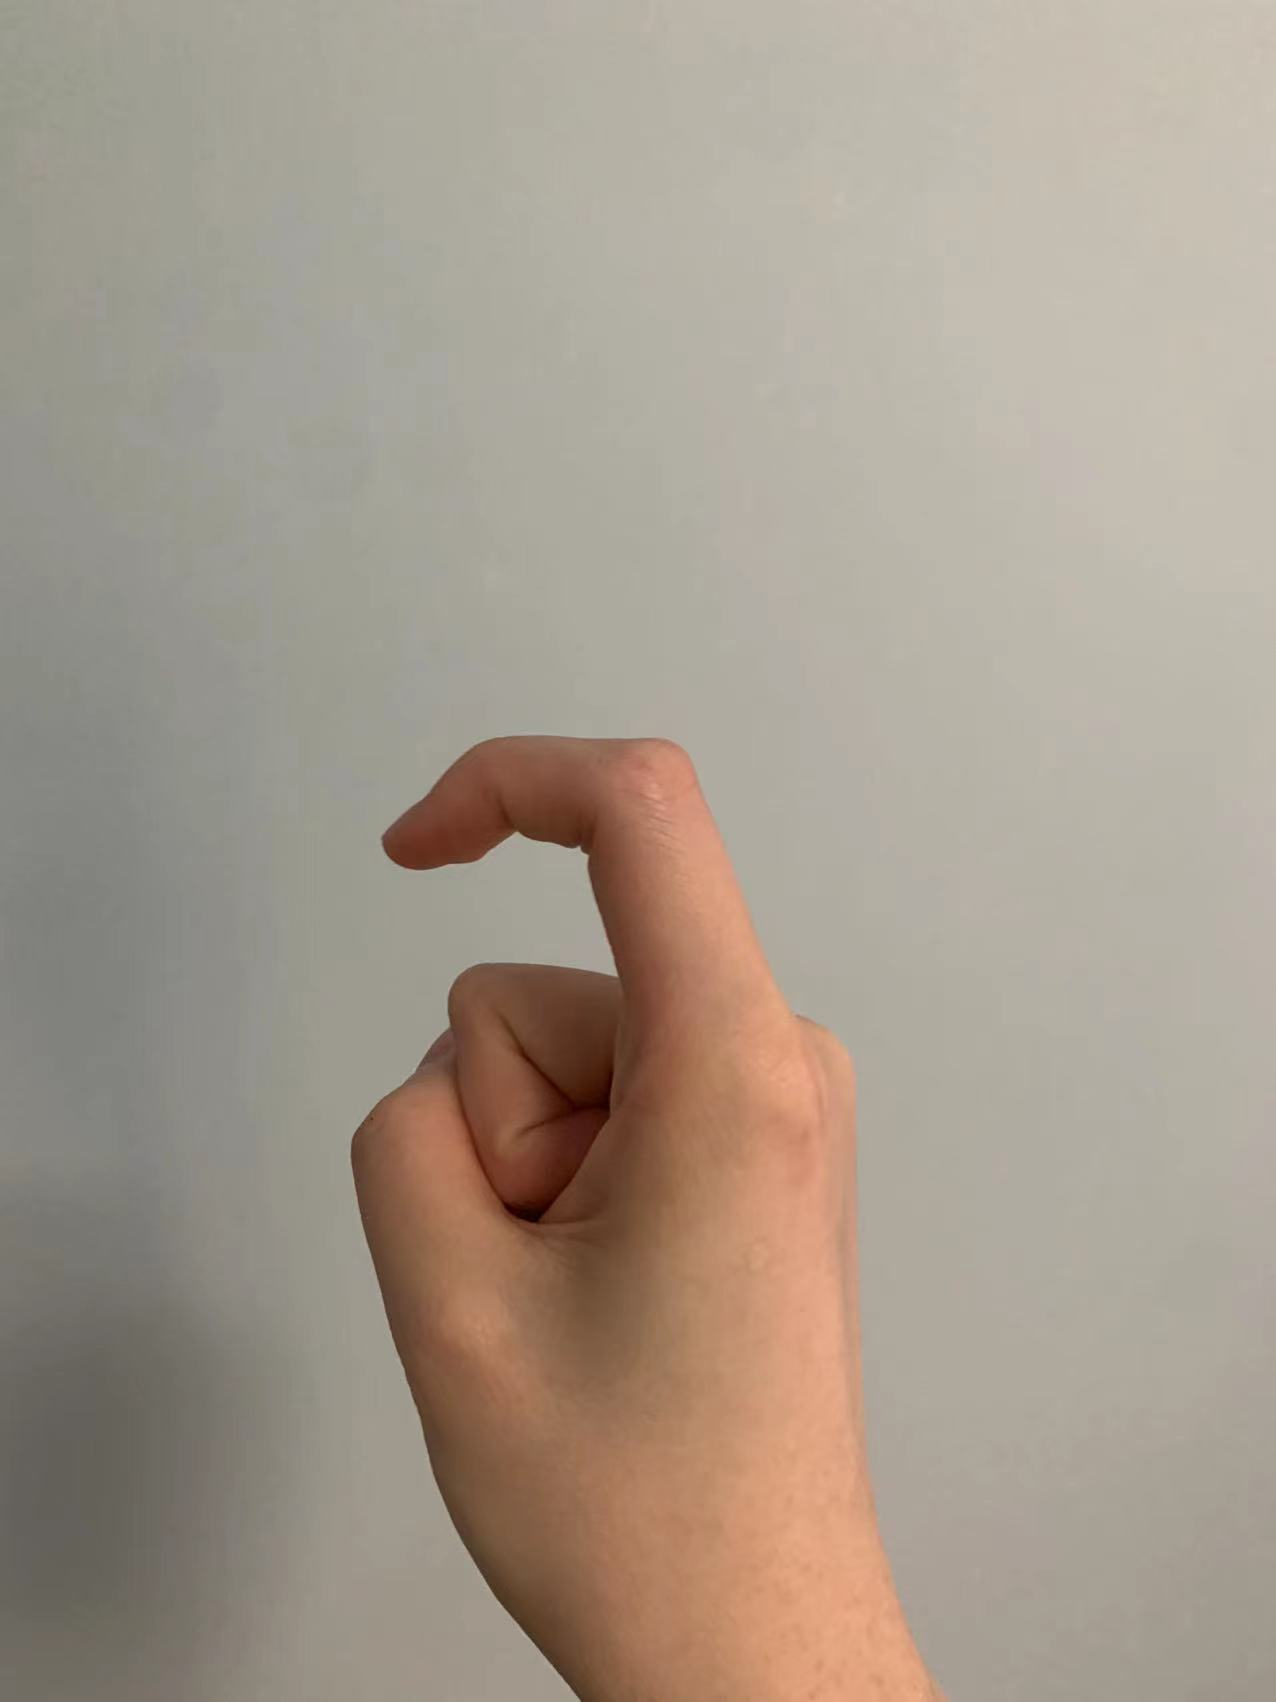anticlockwise: (324, 714, 925, 1644)
